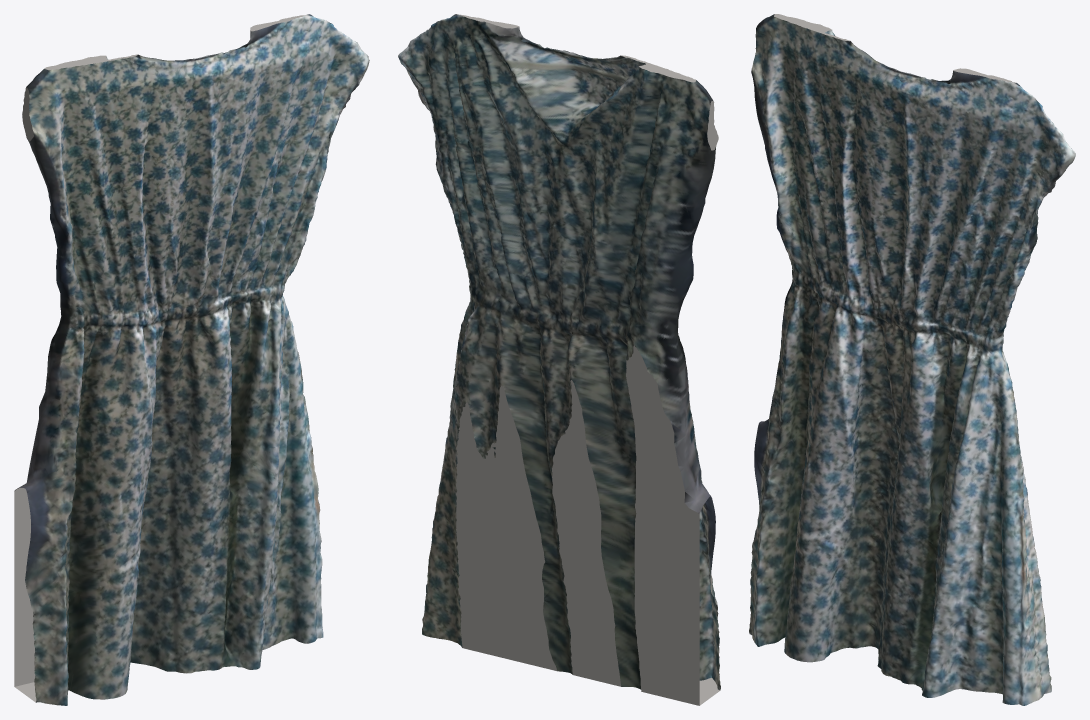
File: white_dress.glb
3 renders of one model, left to right at view 1: azimuth 30°, elevation 25°; view 2: azimuth 150°, elevation 25°; view 3: azimuth 330°, elevation 25°, orthographic. The views are drawn at different scales.
Visible parts, largest first — view 1: 3DModel; view 2: 3DModel; view 3: 3DModel.
Part boxes in pixels (x1,y1,x2,y2): 3DModel: [14, 14, 369, 705]; 3DModel: [398, 14, 720, 705]; 3DModel: [749, 14, 1075, 705].
Size of the model in its own units: 0.409 by 0.736 by 0.0922.
Materials: 1 (1 with a texture image).
